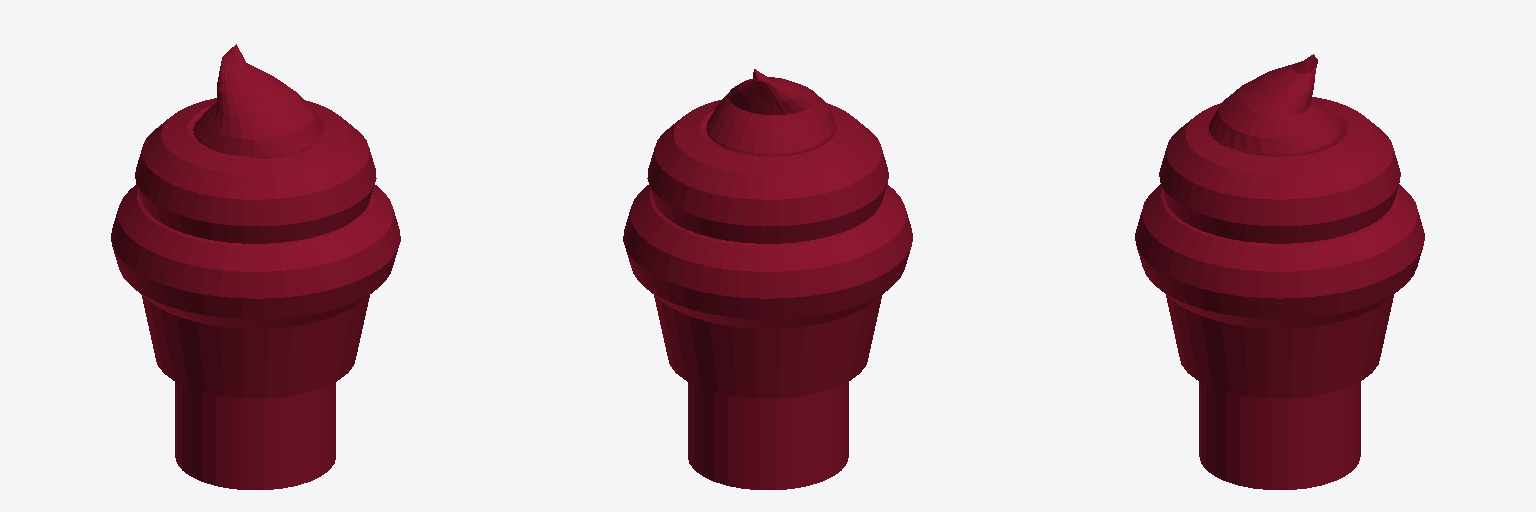
The model's file is swirl.obj.
The picture shows the model from 3 angles: view 1: azimuth 30°, elevation 25°; view 2: azimuth 150°, elevation 25°; view 3: azimuth 270°, elevation 25°; orthographic projection.
Visible parts, largest first — view 1: Cone; view 2: Cone; view 3: Cone.
Part boxes in pixels (x1,y1,x2,y2): Cone: (111, 44, 400, 489); Cone: (623, 69, 912, 489); Cone: (1135, 54, 1424, 489).
Bounding box in the file's own units: 1.44 × 2.2 × 1.44.